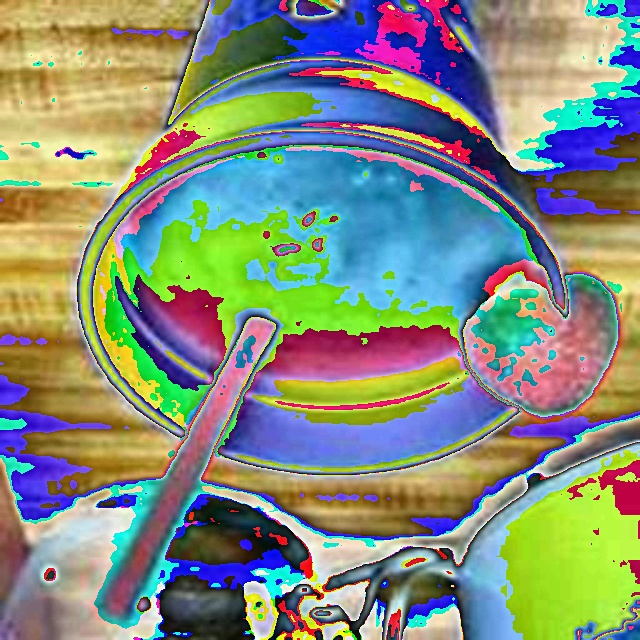background: (130, 150, 619, 419)
